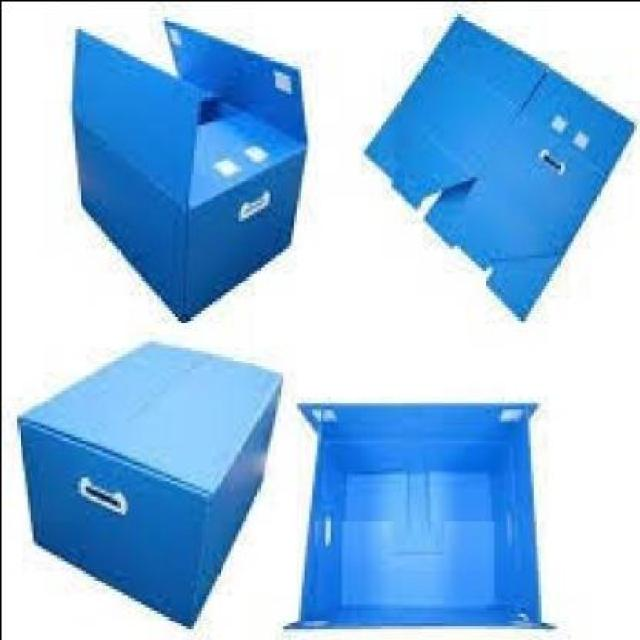CARDBOARD: (360, 9, 632, 318), (13, 337, 282, 625), (68, 12, 303, 318), (279, 396, 556, 627)
